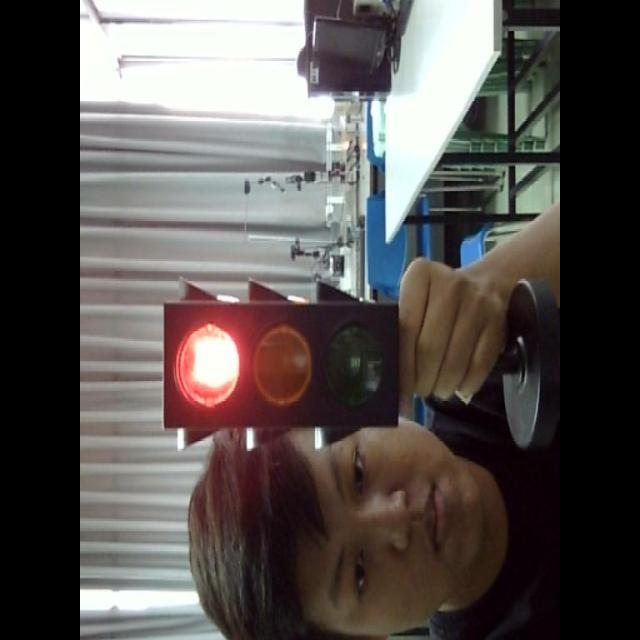red light: (170, 296, 250, 422)
